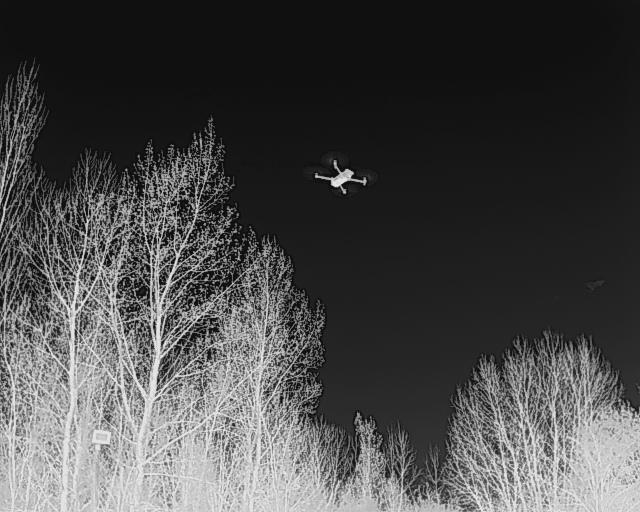drone: (300, 147, 382, 201)
